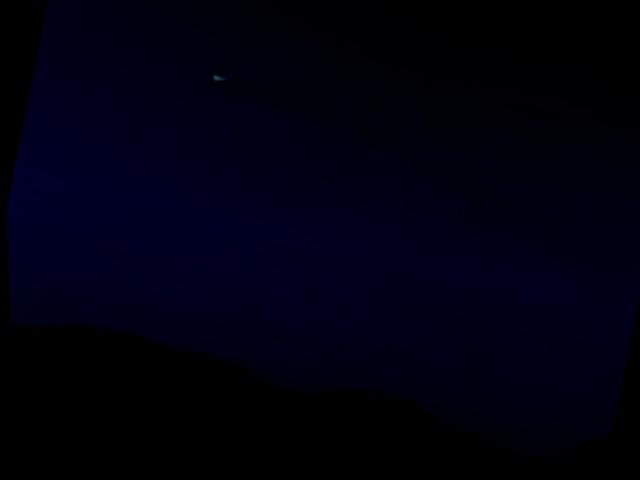iha: (207, 67, 237, 91)
